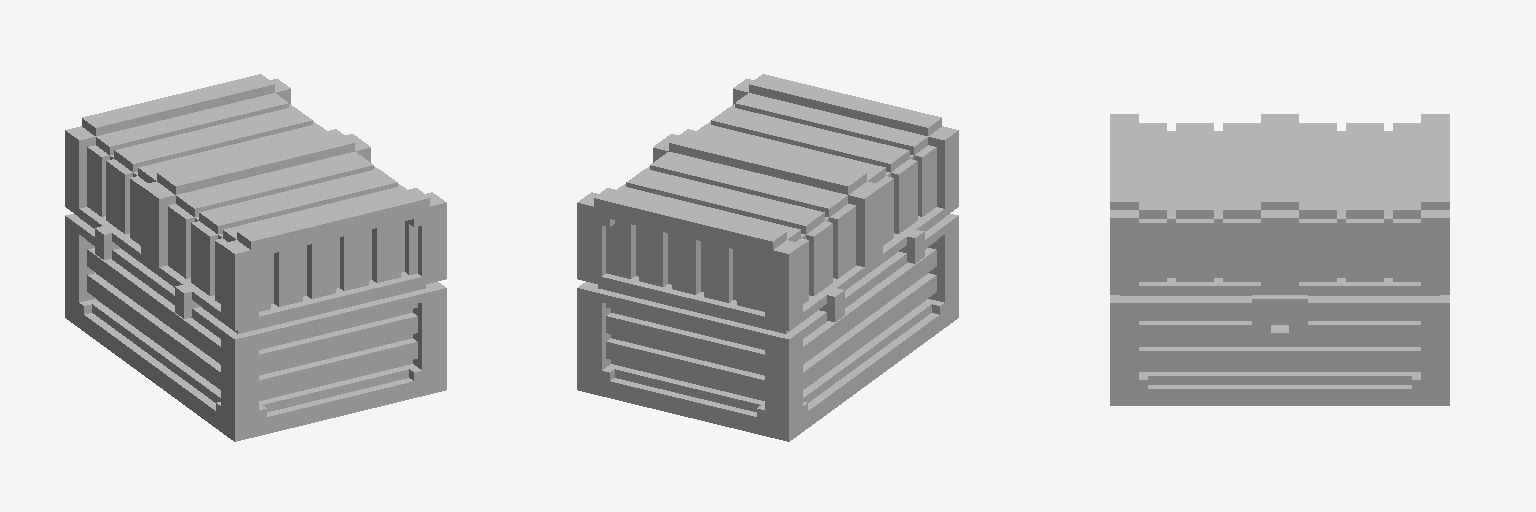
Rendered from Baú_toyz.obj.
3 renders of one model, left to right at view 1: azimuth 30°, elevation 25°; view 2: azimuth 150°, elevation 25°; view 3: azimuth 270°, elevation 25°, orthographic.
Size of the model in its own units: 28 by 23 by 36.